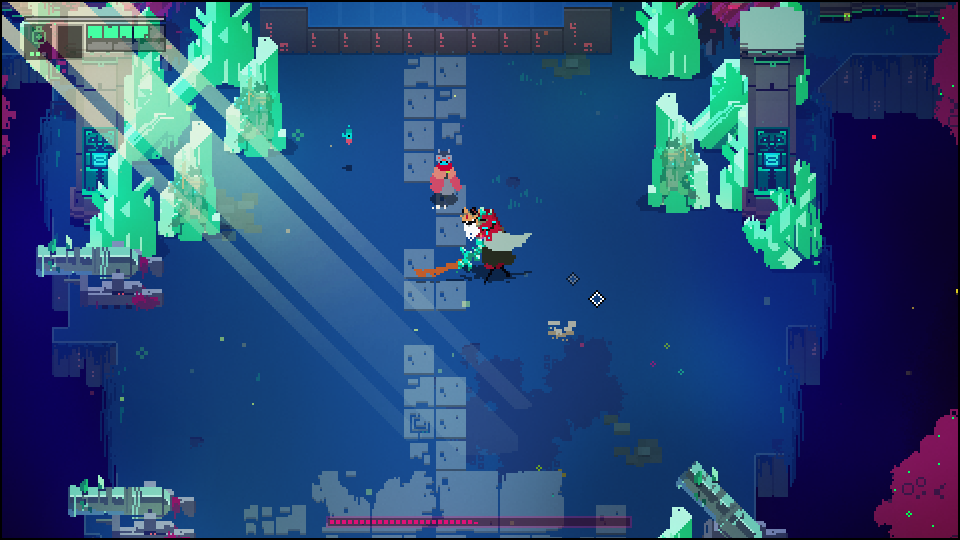hanged_man: (436, 203, 539, 284)
player: (428, 146, 463, 210)
